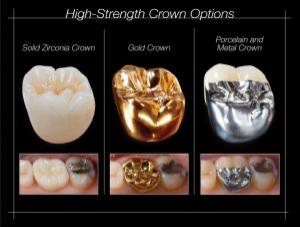crown: (106, 59, 195, 145), (201, 60, 279, 145), (121, 152, 165, 194), (212, 155, 255, 192)
